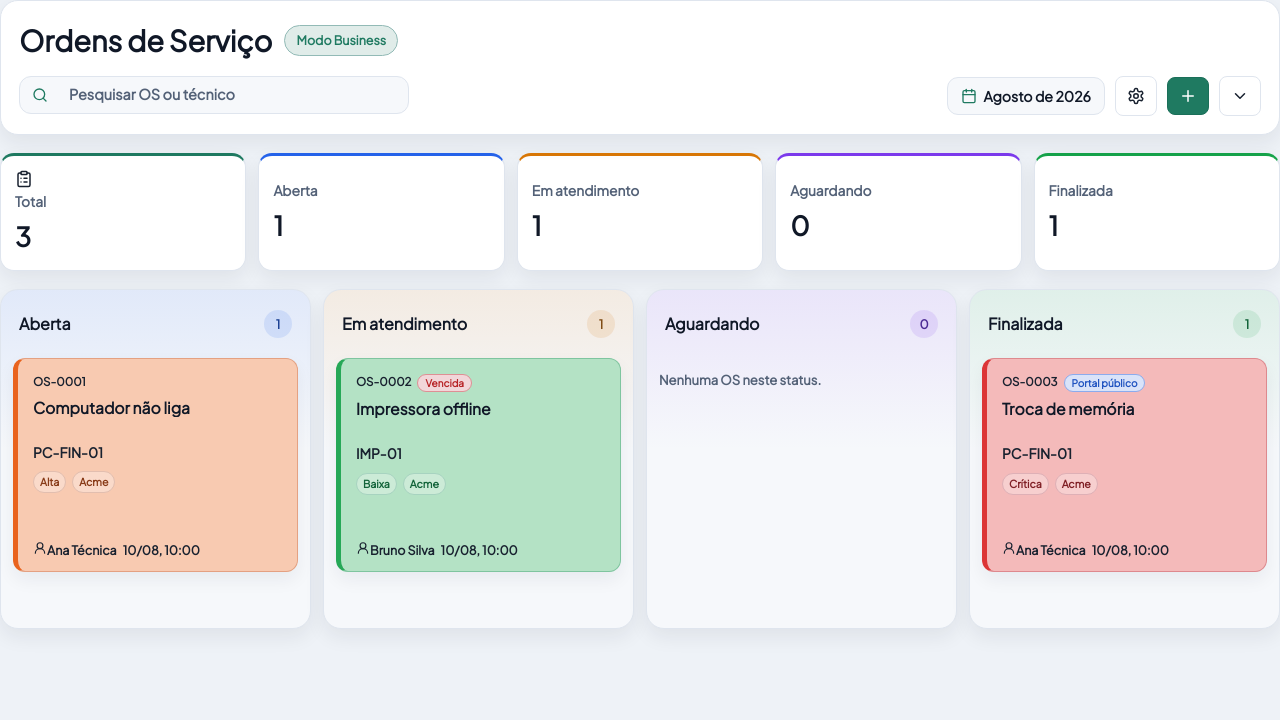
Test case: ServiceOrdersBoard › no modo Business carrega clientes e filtra por cliente
This screenshot has width=1280, height=720.
Expected: the text "Modo Business" is shown, [284,25,398,56]
Click the button named "Filtros de Ordens de Serviço".
click(1240, 96)  # box [1219,76,1261,116]
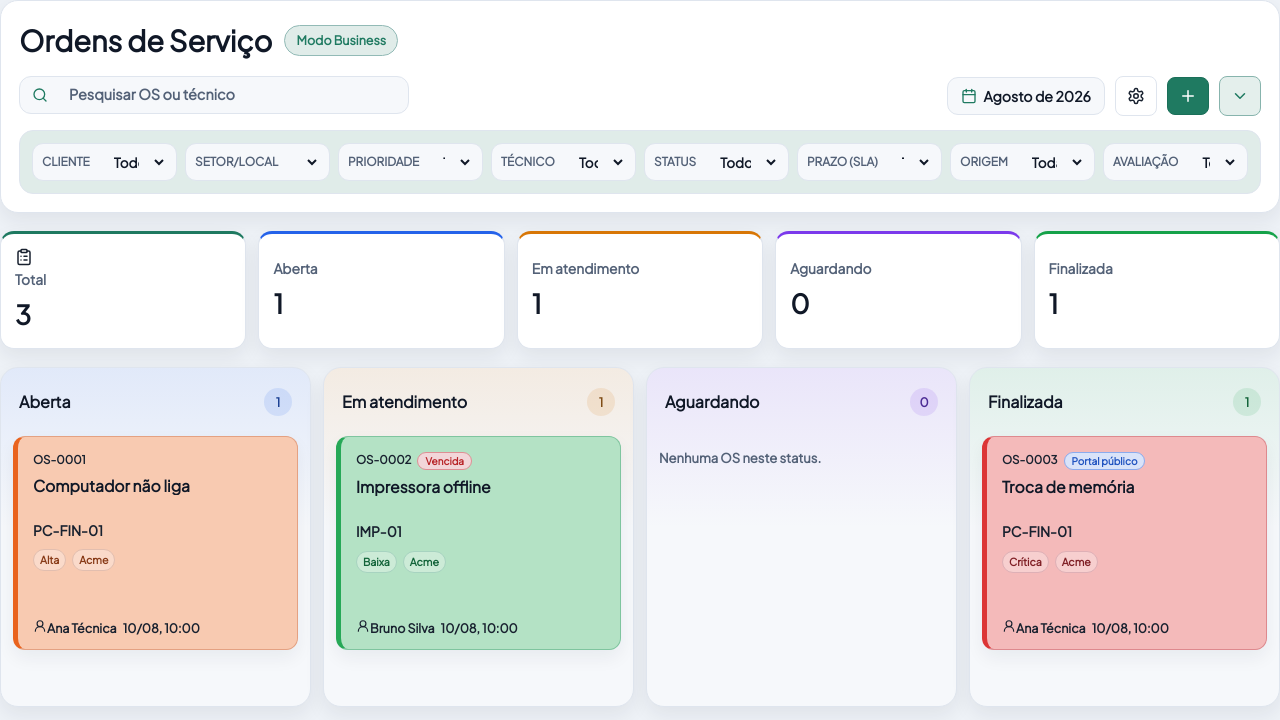
Select "Beta Ltda" in the dropdown labelled "Cliente" at (132, 162), box [98,147,167,177]
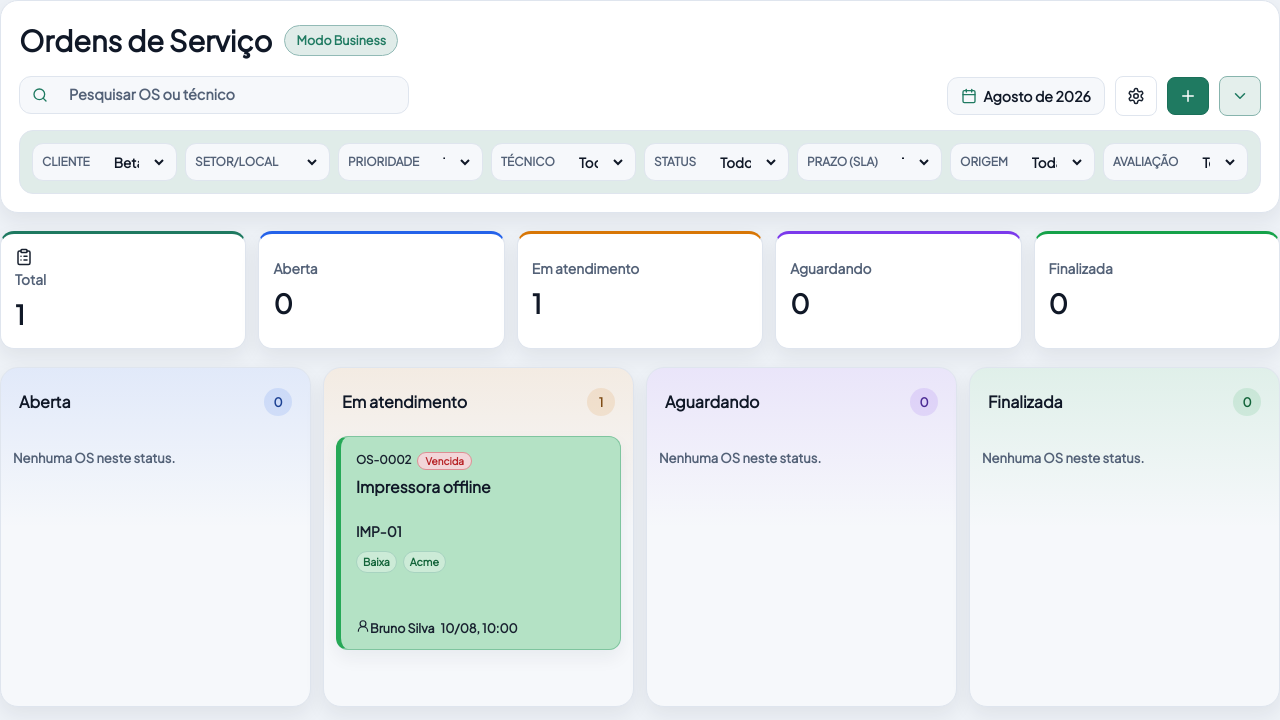
Expected: the text "Setor/local" is shown, [195,153,278,171]
Expected: the text "1" below "Total" is shown, [15,298,25,331]
